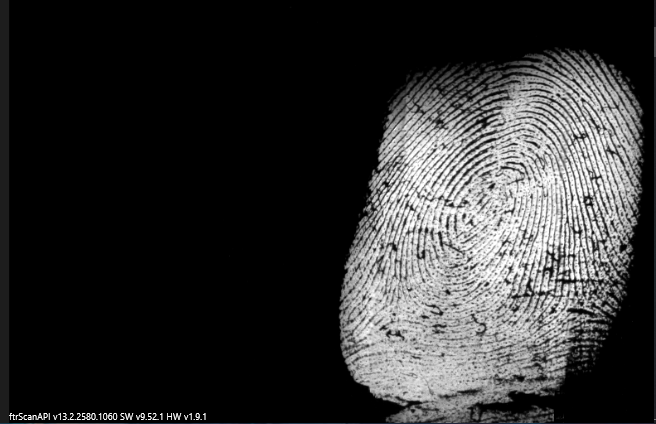nucelo: (459, 199, 490, 227)
verticilo: (567, 286, 586, 318), (386, 285, 405, 312)
